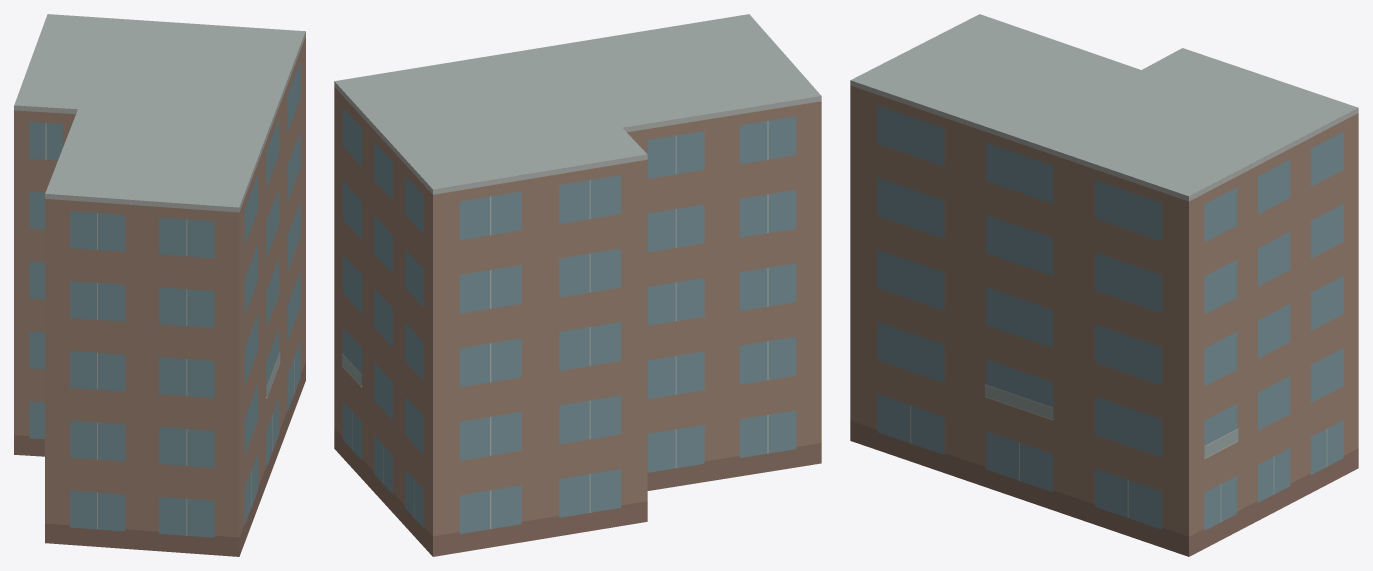
File: survey-upis-32705503.glb
3 views of the same model, side by side, from view 1: azimuth 30°, elevation 25°; view 2: azimuth 150°, elevation 25°; view 3: azimuth 270°, elevation 25° (orthographic). The views are drawn at different scales.
Visible parts, largest first — view 1: survey-upis-32705503.tmp; view 2: survey-upis-32705503.tmp; view 3: survey-upis-32705503.tmp.
Part boxes in pixels (x1=…): survey-upis-32705503.tmp: x1=14, y1=14, x2=305, y2=556; survey-upis-32705503.tmp: x1=334, y1=14, x2=821, y2=556; survey-upis-32705503.tmp: x1=850, y1=14, x2=1358, y2=556.
Size of the model in its own units: 18.45 by 17 by 21.73.
